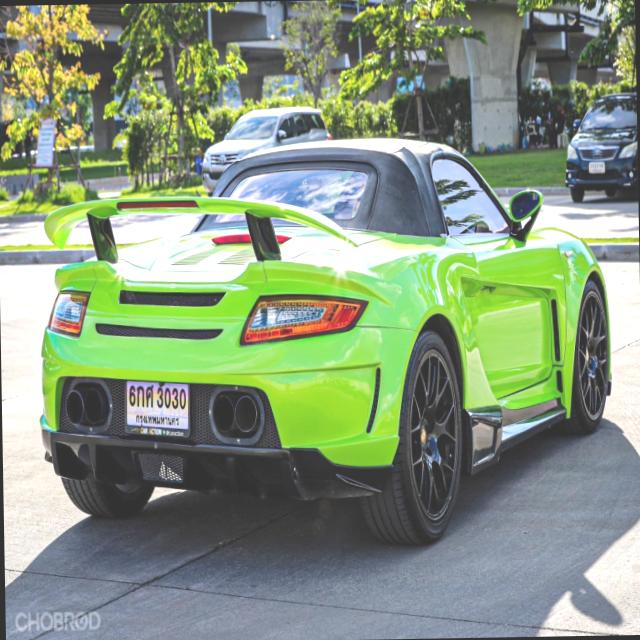license_plate: (124, 376, 191, 442)
